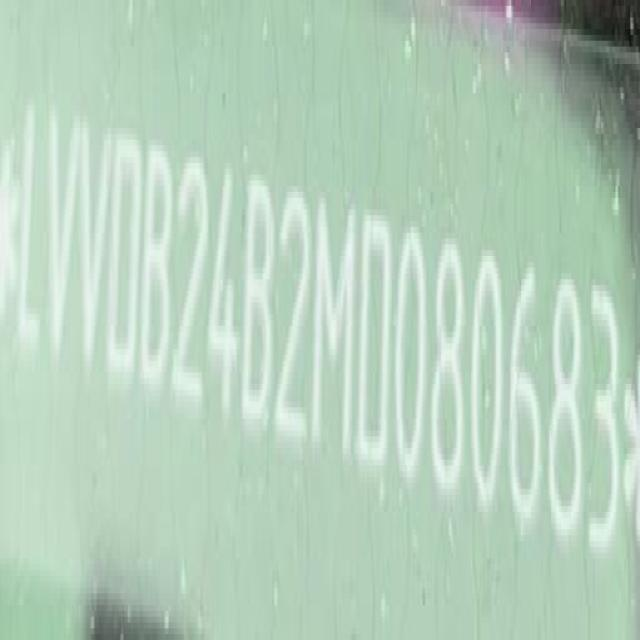0: (394, 224, 432, 493), (469, 250, 505, 521)
2: (278, 184, 316, 456), (174, 149, 212, 419)
3: (589, 288, 623, 568)
4: (208, 161, 243, 427)
6: (507, 264, 545, 542)
8: (550, 268, 588, 553), (431, 232, 467, 504)
B: (138, 141, 174, 408), (242, 172, 276, 440)
D: (360, 205, 398, 477), (107, 127, 144, 397)
L: (15, 99, 47, 375)
M: (312, 190, 359, 465)
V: (39, 106, 79, 380), (74, 114, 114, 385)
